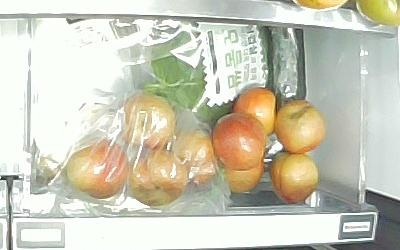prune: (213, 114, 268, 170), (275, 100, 324, 154), (270, 153, 318, 206), (231, 88, 277, 140), (217, 158, 266, 194)
prune_vinyl: (65, 138, 131, 198), (129, 149, 187, 207), (117, 93, 177, 148), (171, 128, 219, 188)
